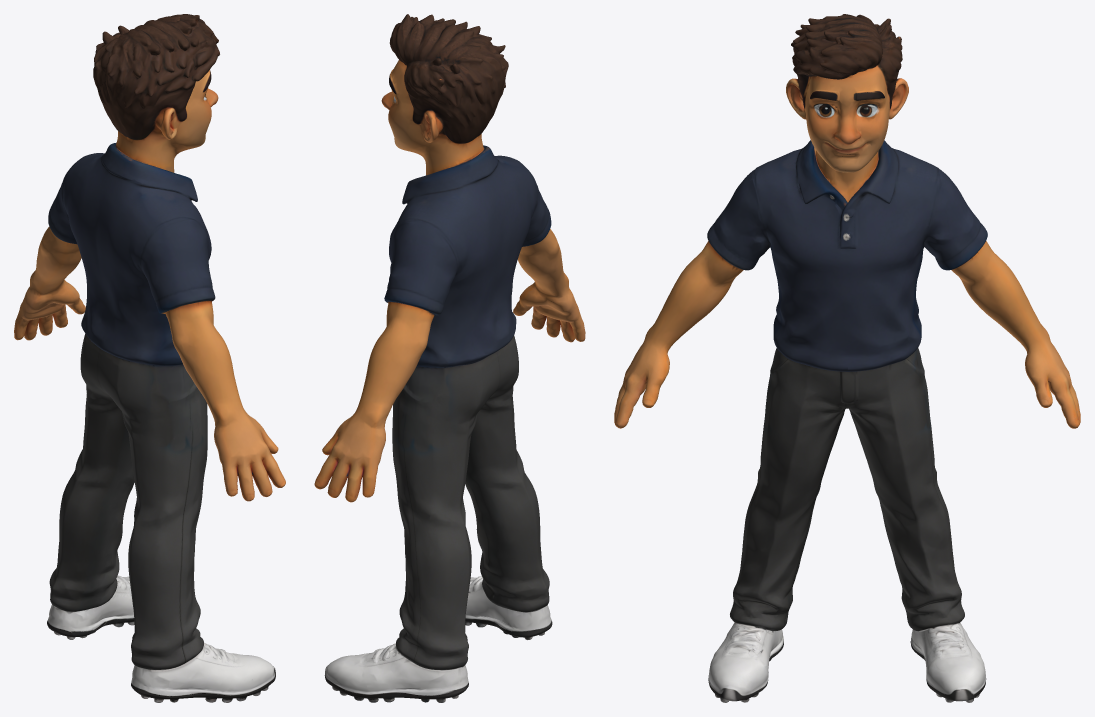
3 views of the same model, side by side, from view 1: azimuth 30°, elevation 25°; view 2: azimuth 150°, elevation 25°; view 3: azimuth 270°, elevation 25° (orthographic). The views are drawn at different scales.
Parts seen in each view (by area): view 1: tripo_node_884afe3a-80df-4e4c-b035-72b16cea5491; view 2: tripo_node_884afe3a-80df-4e4c-b035-72b16cea5491; view 3: tripo_node_884afe3a-80df-4e4c-b035-72b16cea5491.
Boxes of the visible parts, x1,y1,x2,y2 form: tripo_node_884afe3a-80df-4e4c-b035-72b16cea5491: (14, 14, 285, 702); tripo_node_884afe3a-80df-4e4c-b035-72b16cea5491: (314, 14, 585, 702); tripo_node_884afe3a-80df-4e4c-b035-72b16cea5491: (614, 14, 1080, 702).
Bounding box in the file's own units: 0.2093 × 1 × 0.639.
Materials: 1 (1 with a texture image).
